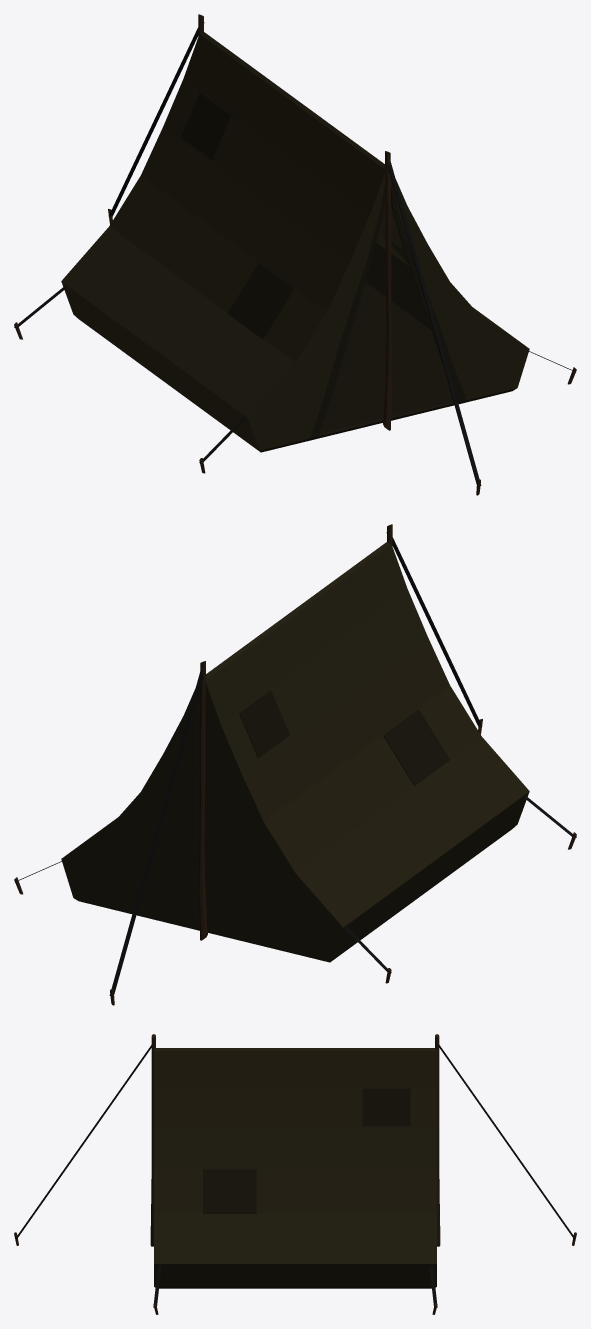
3 views of the same model, one above another, from view 1: azimuth 30°, elevation 25°; view 2: azimuth 150°, elevation 25°; view 3: azimuth 270°, elevation 25° (orthographic). The views are drawn at different scales.
Parts seen in each view (by area): view 1: Tent.002_Cylinder.008; view 2: Tent.002_Cylinder.008; view 3: Tent.002_Cylinder.008.
Part boxes in pixels (x1,y1,x2,y2): Tent.002_Cylinder.008: [14, 14, 576, 495]; Tent.002_Cylinder.008: [14, 524, 576, 1005]; Tent.002_Cylinder.008: [14, 1034, 576, 1314].
Size of the model in its own units: 251 by 178 by 428.
